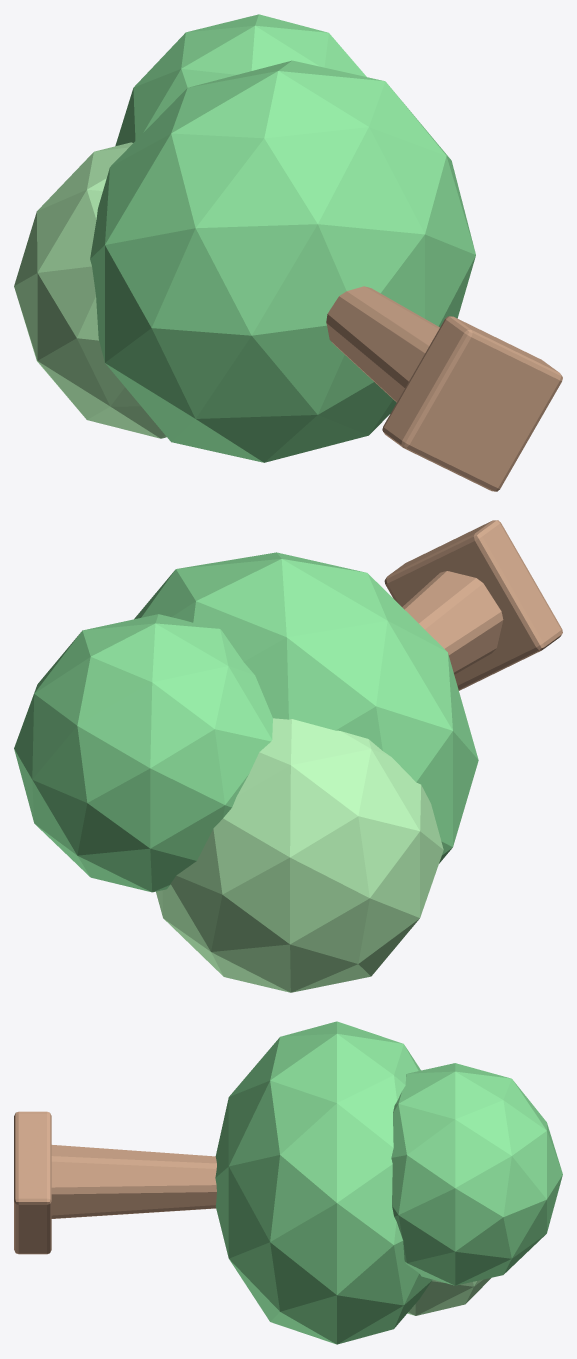
File: Env_CartoonTree.fbx
3 renders of one model, top to bottom at view 1: azimuth 30°, elevation 25°; view 2: azimuth 150°, elevation 25°; view 3: azimuth 270°, elevation 25°, orthographic. The views are drawn at different scales.
Visible parts, largest first — view 1: FoliageLow, RootFlare, FoliageMid, FoliageTop, Trunk; view 2: FoliageMid, FoliageTop, FoliageLow, RootFlare, Trunk; view 3: FoliageLow, FoliageTop, Trunk, RootFlare, FoliageMid.
Boxes of the visible parts, x1,y1,x2,y2 form: FoliageLow: [90, 60, 475, 462]; RootFlare: [382, 316, 562, 491]; FoliageMid: [14, 142, 166, 438]; FoliageTop: [115, 14, 366, 146]; Trunk: [326, 286, 525, 456]; FoliageMid: [156, 718, 443, 992]; FoliageTop: [14, 614, 272, 892]; FoliageLow: [134, 552, 478, 863]; RootFlare: [384, 520, 562, 690]; Trunk: [402, 571, 503, 674]; FoliageLow: [215, 1021, 432, 1344]; FoliageTop: [391, 1063, 562, 1285]; Trunk: [51, 1145, 216, 1218]; RootFlare: [14, 1111, 51, 1254]; FoliageMid: [407, 1278, 490, 1315].
Bounding box in the file's own units: 2.09 × 2.09 × 3.48.
